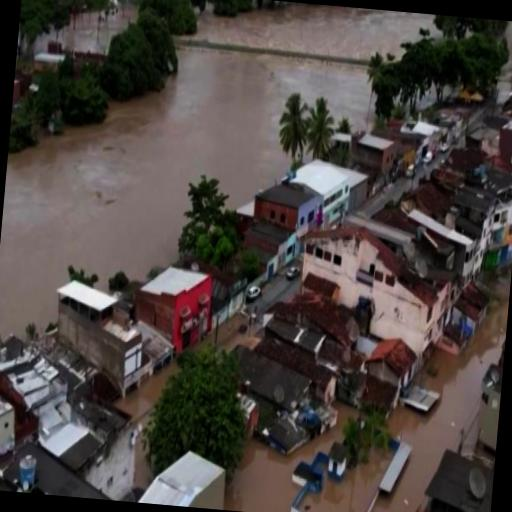flood: (0, 49, 372, 336), (303, 301, 509, 512), (200, 7, 437, 57), (227, 431, 340, 512), (117, 364, 180, 415), (214, 312, 243, 340)
house: (344, 204, 450, 363), (42, 274, 154, 404), (132, 262, 216, 363), (0, 436, 126, 501), (128, 446, 230, 510), (350, 127, 402, 189), (298, 224, 350, 286), (253, 182, 320, 228), (476, 361, 504, 456), (486, 166, 512, 255), (0, 392, 19, 478), (492, 110, 512, 165), (388, 504, 490, 512)
